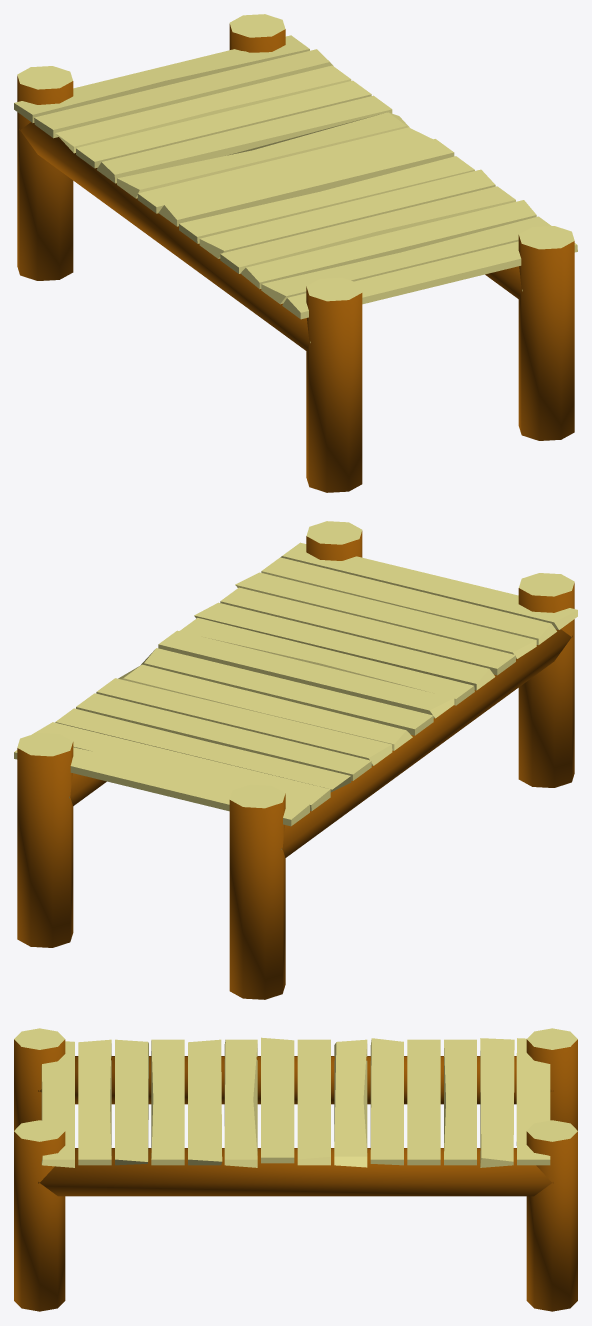
The model's file is bridgeFixed.fbx.
3 views of the same model, one above another, from view 1: azimuth 30°, elevation 25°; view 2: azimuth 150°, elevation 25°; view 3: azimuth 270°, elevation 25° (orthographic). The views are drawn at different scales.
Parts seen in each view (by area): view 1: BridgeFixed; view 2: BridgeFixed; view 3: BridgeFixed.
Part boxes in pixels (x1,y1,x2,y2): BridgeFixed: (14,14,577,492); BridgeFixed: (14,521,577,999); BridgeFixed: (14,1028,577,1311).
Bounding box in the file's own units: 1128 × 729 × 2196.
